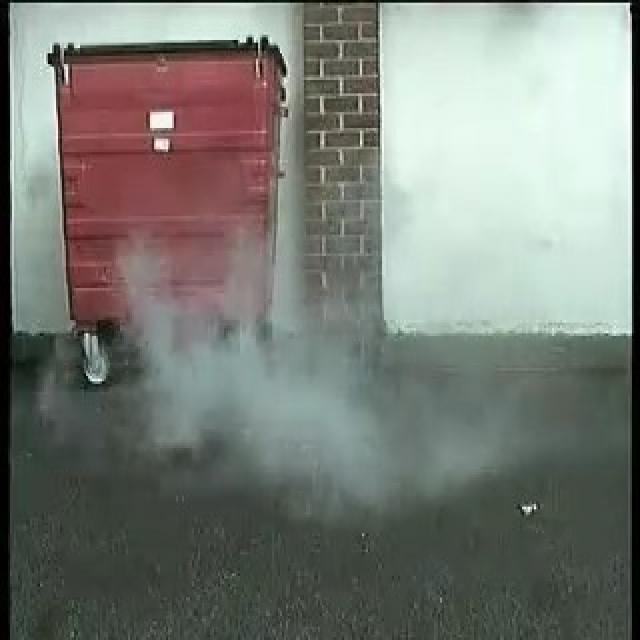smoke: (150, 301, 371, 435)
